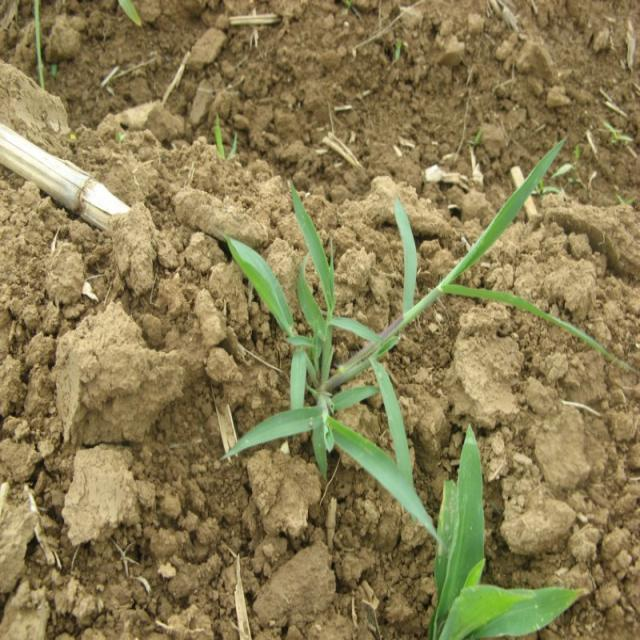bg: (229, 140, 567, 454)
